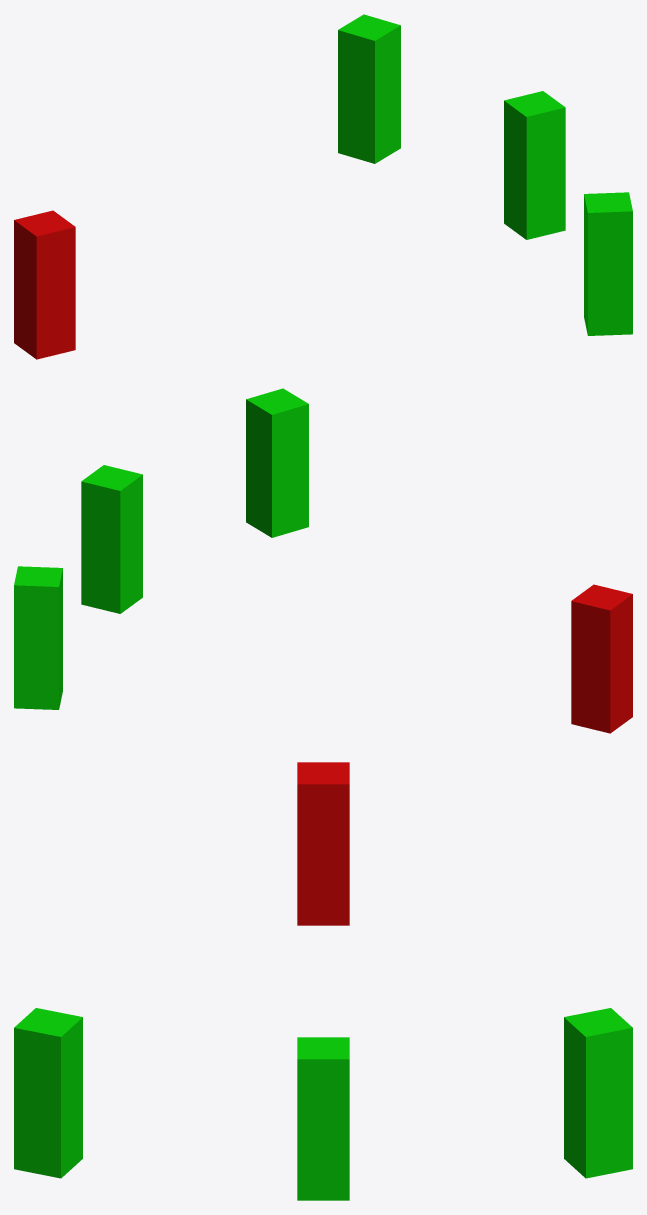
File: SM_PlayerNEnemies.FBX
3 views of the same model, one above another, from view 1: azimuth 30°, elevation 25°; view 2: azimuth 150°, elevation 25°; view 3: azimuth 270°, elevation 25° (orthographic). The views are drawn at different scales.
Parts seen in each view (by area): view 1: SM_PlayerNEnemies; view 2: SM_PlayerNEnemies; view 3: SM_PlayerNEnemies.
Part boxes in pixels (x1,y1,x2,y2): SM_PlayerNEnemies: (14, 14, 632, 359); SM_PlayerNEnemies: (14, 388, 632, 733); SM_PlayerNEnemies: (14, 762, 632, 1200).
Size of the model in its own units: 810 by 714 by 180.
